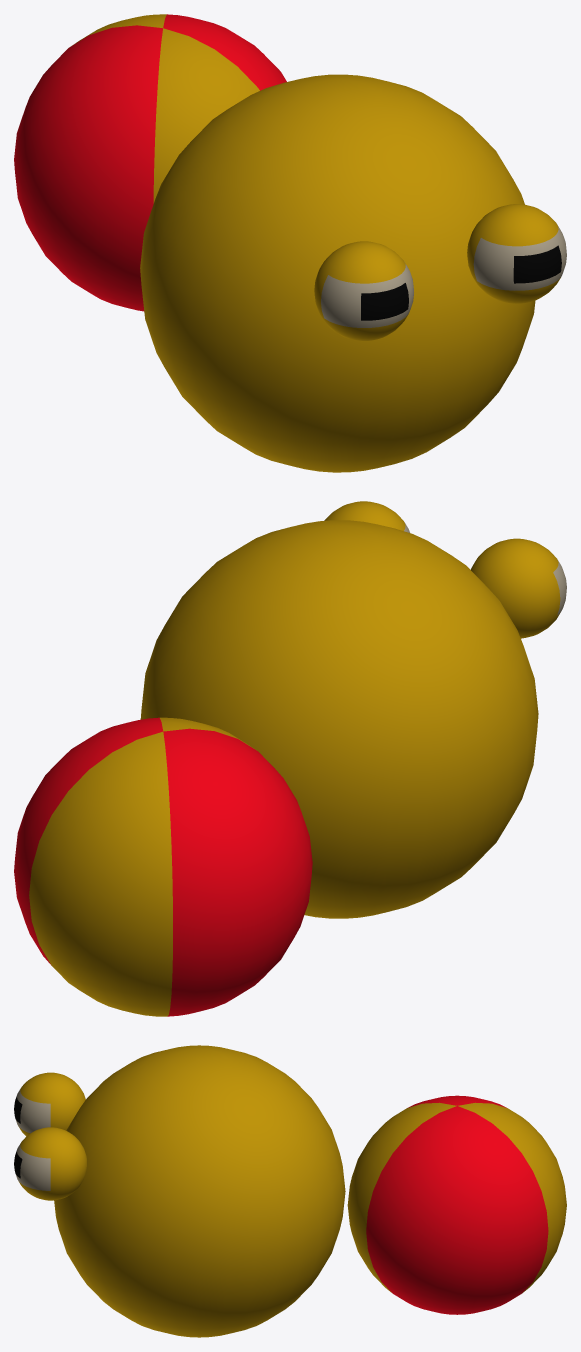
The model's file is projectsnake3.fbx.
3 views of the same model, one above another, from view 1: azimuth 30°, elevation 25°; view 2: azimuth 150°, elevation 25°; view 3: azimuth 270°, elevation 25° (orthographic). The views are drawn at different scales.
Visible parts, largest first — view 1: Sphere, Sphere.002; view 2: Sphere, Sphere.002; view 3: Sphere, Sphere.002.
Part boxes in pixels (x1,y1,x2,y2): Sphere: (140, 74, 566, 472); Sphere.002: (14, 14, 286, 311); Sphere: (140, 501, 566, 918); Sphere.002: (14, 717, 312, 1016); Sphere: (14, 1045, 345, 1337); Sphere.002: (347, 1095, 566, 1314).
Bounding box in the file's own units: 40 × 40 × 75.64.
